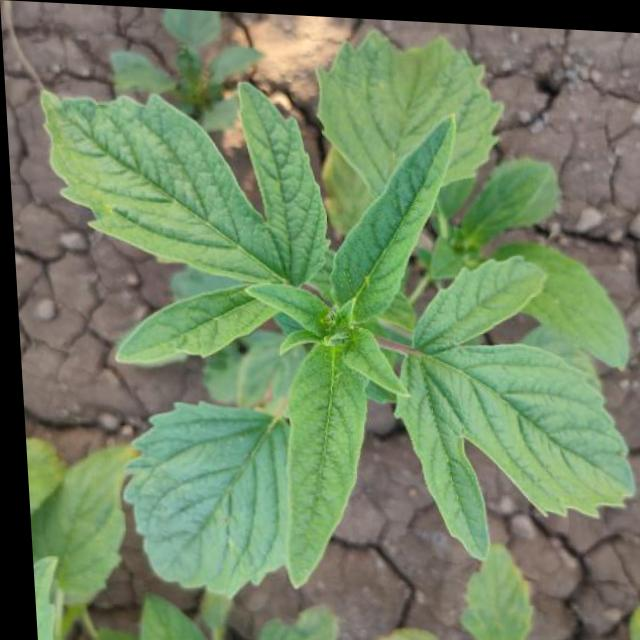crop: (39, 34, 636, 605)
